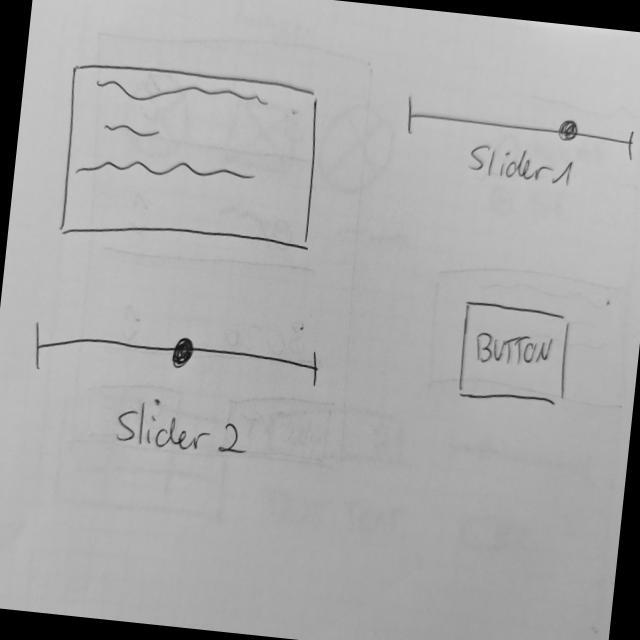button: (453, 294, 578, 414)
label: (110, 394, 252, 467), (463, 139, 582, 185)
slider: (26, 313, 328, 406), (399, 91, 640, 162)
textbox: (53, 55, 328, 261)
